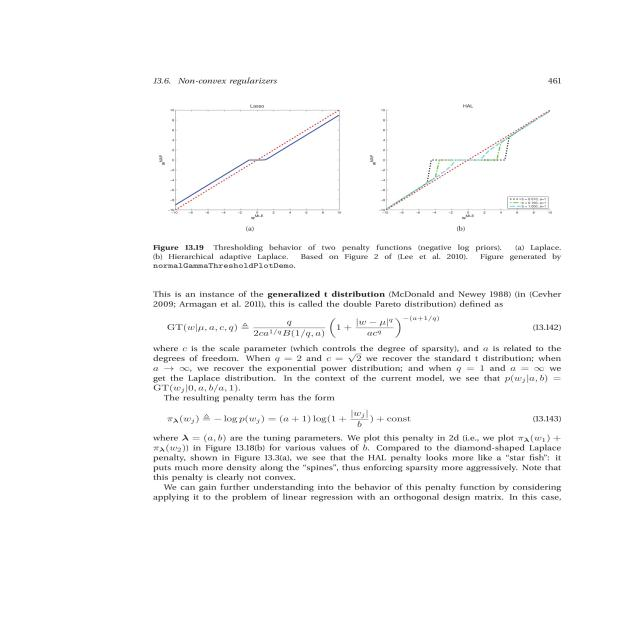diagram: (119, 101, 595, 277)
